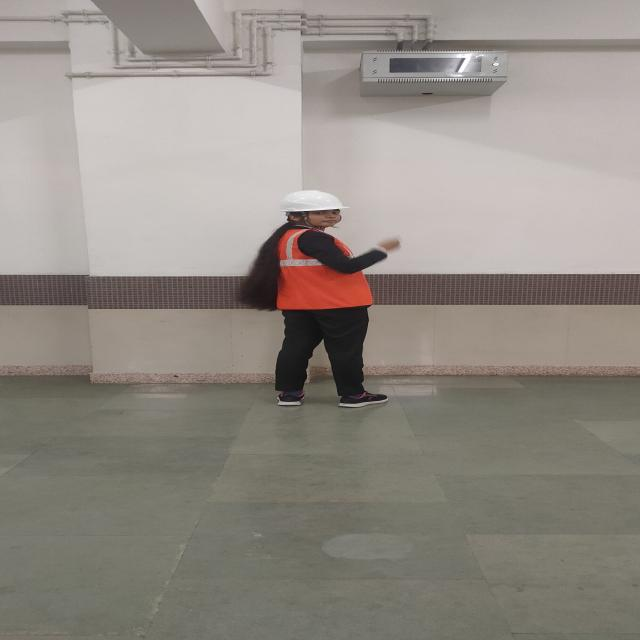safe: (272, 190, 373, 407)
